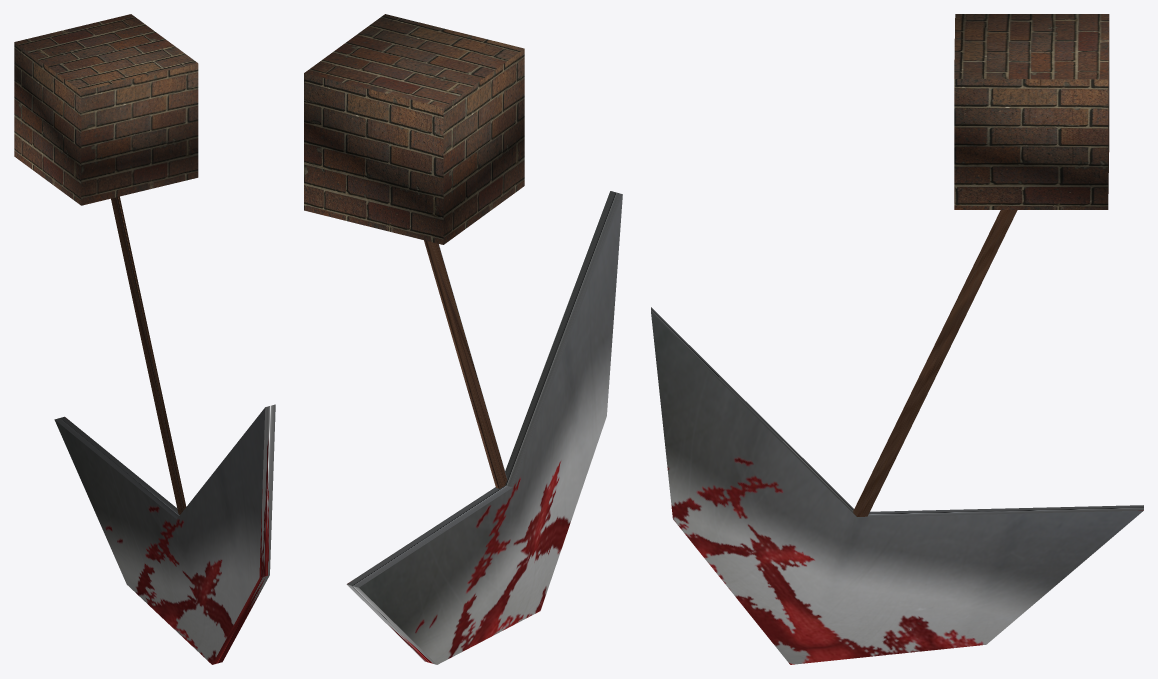
Rendered from trapAire1.fbx.
The picture shows the model from 3 angles, left to right: view 1: azimuth 30°, elevation 25°; view 2: azimuth 150°, elevation 25°; view 3: azimuth 270°, elevation 25°; orthographic projection. The views are drawn at different scales.
Parts seen in each view (by area): view 1: Cylinder_001, Cylinder; view 2: Cylinder_001, Cylinder; view 3: Cylinder_001, Cylinder.
Part boxes in pixels (left/top/right/bottom): Cylinder_001: left=54, top=196, right=275, bottom=664; Cylinder: left=14, top=14, right=198, bottom=205; Cylinder_001: left=346, top=191, right=622, bottom=664; Cylinder: left=304, top=14, right=524, bottom=244; Cylinder_001: left=651, top=210, right=1143, bottom=664; Cylinder: left=954, top=14, right=1109, bottom=209.
Size of the model in its own units: 0.782 by 3.42 by 2.5.
3 materials, 3 textured.
